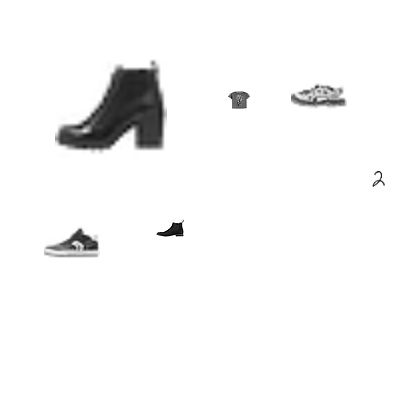2: (367, 168, 389, 190)
Ankle_boot: (55, 53, 167, 165), (156, 214, 184, 242)
Sandal: (291, 68, 347, 124)
Sneaker: (44, 213, 100, 269)
T-shirt/top: (228, 89, 250, 111)
